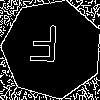F: (26, 24, 60, 71)
